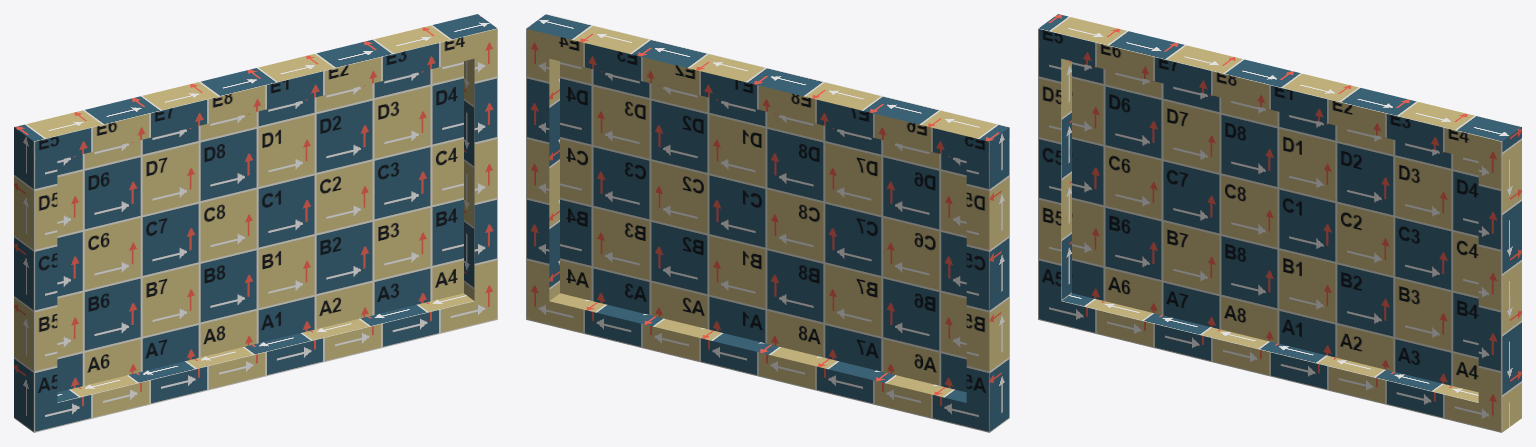
The model's file is WINDOW_Rectangular.fbx.
3 renders of one model, left to right at view 1: azimuth 30°, elevation 25°; view 2: azimuth 150°, elevation 25°; view 3: azimuth 330°, elevation 25°, orthographic.
Parts seen in each view (by area): view 1: WINDOW_Rectangular; view 2: WINDOW_Rectangular; view 3: WINDOW_Rectangular.
Boxes of the visible parts, x1,y1,x2,y2 form: WINDOW_Rectangular: [14, 14, 497, 432]; WINDOW_Rectangular: [526, 14, 1009, 432]; WINDOW_Rectangular: [1038, 14, 1521, 432].
Size of the model in its own units: 200 by 120 by 15.
Materials: 2 (2 with a texture image).
